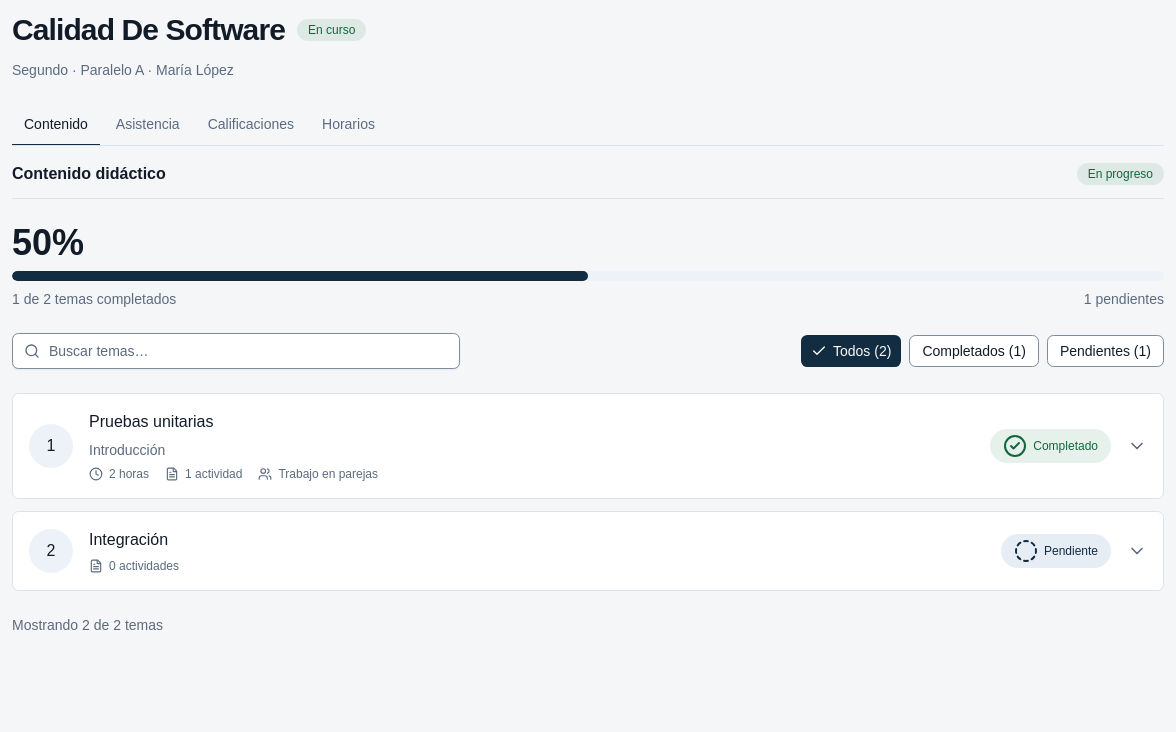
Test case: Módulo Estudiante › muestra el plan didáctico de la tutoría abierta, sin volver a elegirla
This screenshot has width=1176, height=732.
expect the text "1 de 2 temas completados" is shown: met, box [12,289,176,309]
Click the button with aria-label "Ver detalle de Pruebas unitarias" at (51, 446), box [13,394,1163,498]
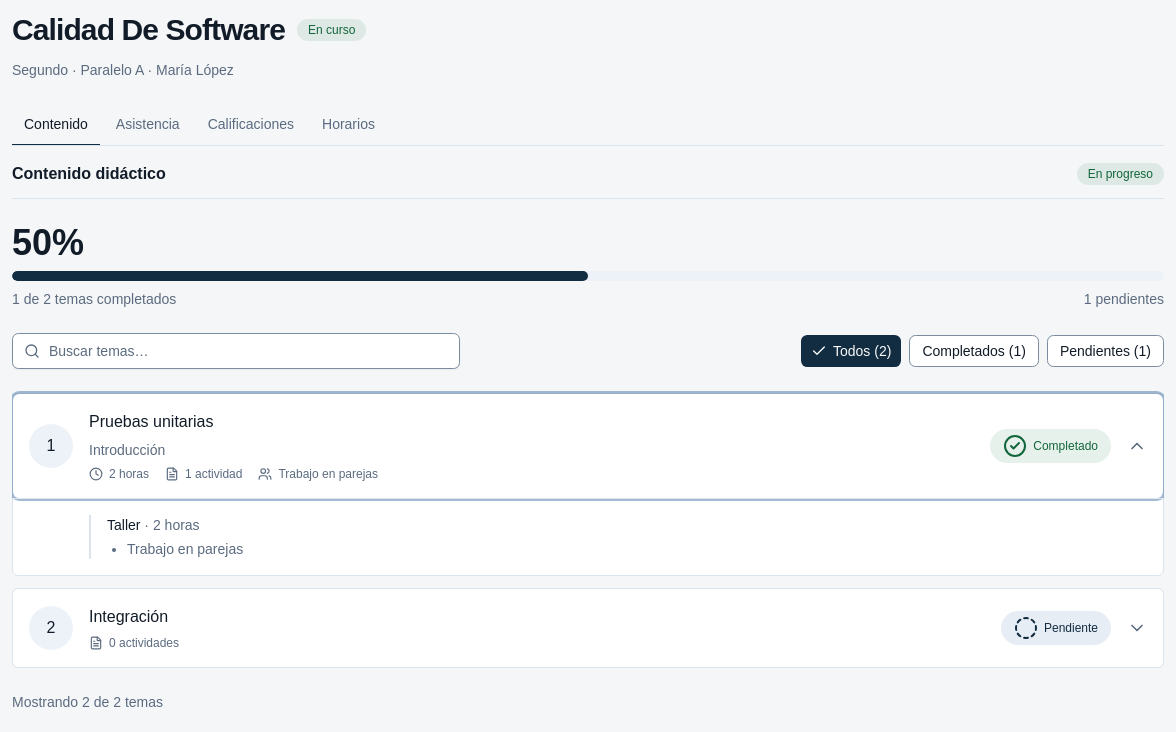
expect the text "Taller" is shown: met, box [107,517,140,533]
Click the button "Pendientes (1)" at (1105, 351), box [1047,335,1164,367]
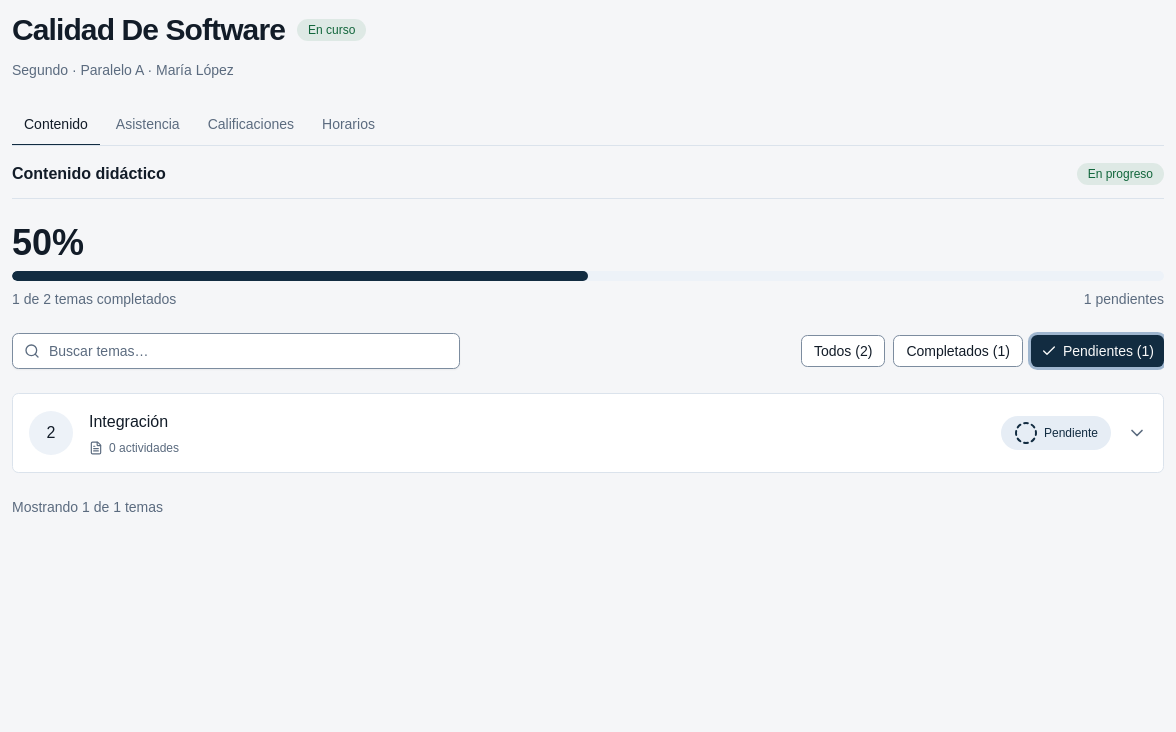
expect the text "Integración" is shown: met, box [89,413,168,430]
expect the button "Pruebas unitarias" is gone: met
Type "zzz" into the search field labelled "Buscar temas" at (236, 351), box [12,333,460,369]
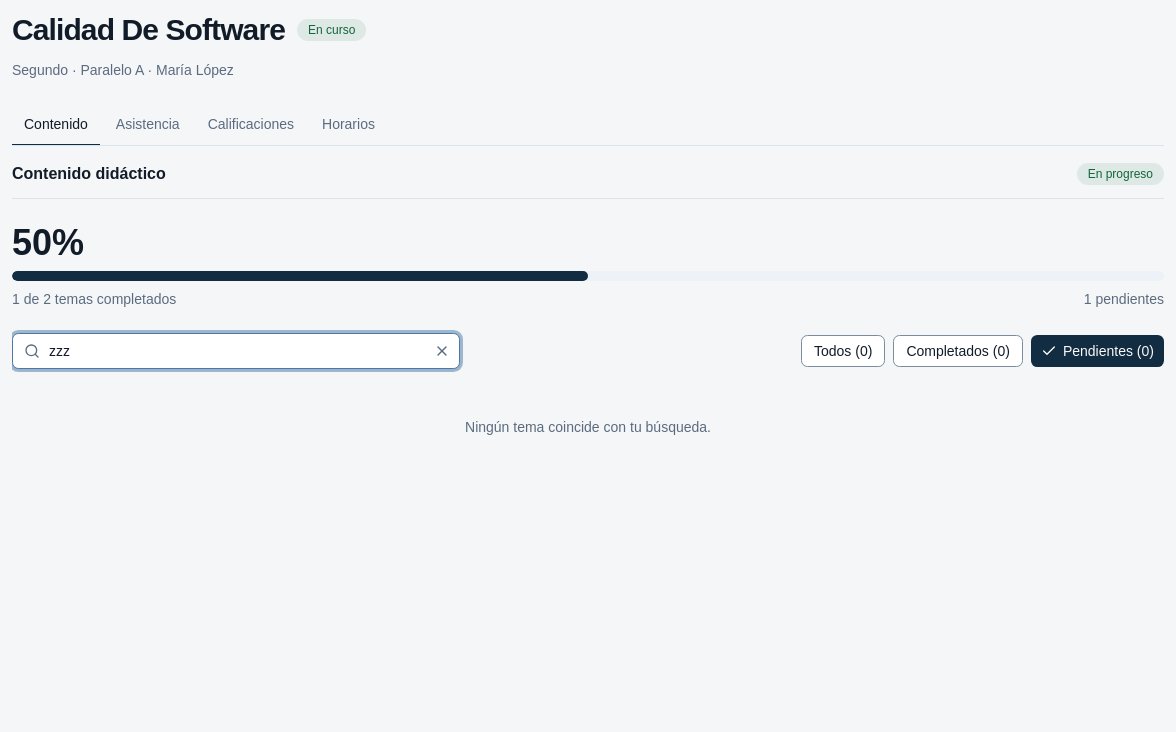
expect the text "Ningún tema coincide con tu búsqueda." is shown: met, box [465,419,711,435]
